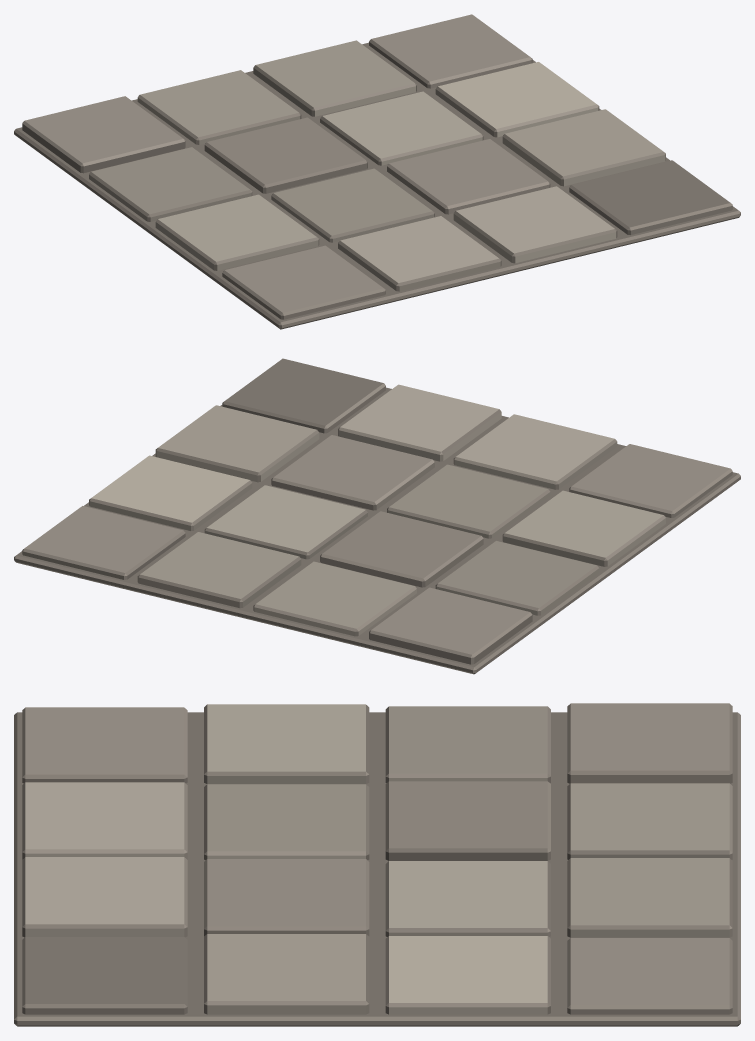
The model's file is SM_Kit_piso.fbx.
The picture shows the model from 3 angles, top to bottom: view 1: azimuth 30°, elevation 25°; view 2: azimuth 150°, elevation 25°; view 3: azimuth 270°, elevation 25°; orthographic projection. The views are drawn at different scales.
Visible parts, largest first — view 1: SM_Kit_piso; view 2: SM_Kit_piso; view 3: SM_Kit_piso.
Boxes of the visible parts, x1,y1,x2,y2 form: SM_Kit_piso: [14, 14, 740, 329]; SM_Kit_piso: [14, 358, 740, 674]; SM_Kit_piso: [14, 703, 740, 1026].
Size of what is drawn, in the model's own units: 400 by 13.4 by 400.
